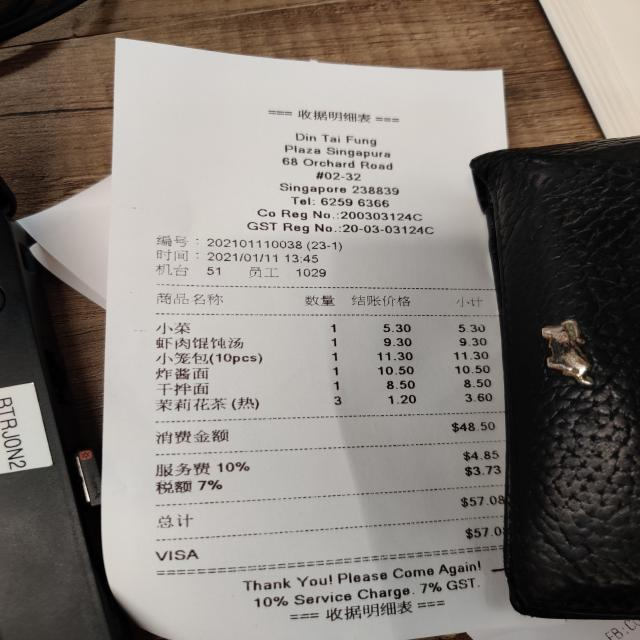bill_region: (134, 313, 524, 563)
